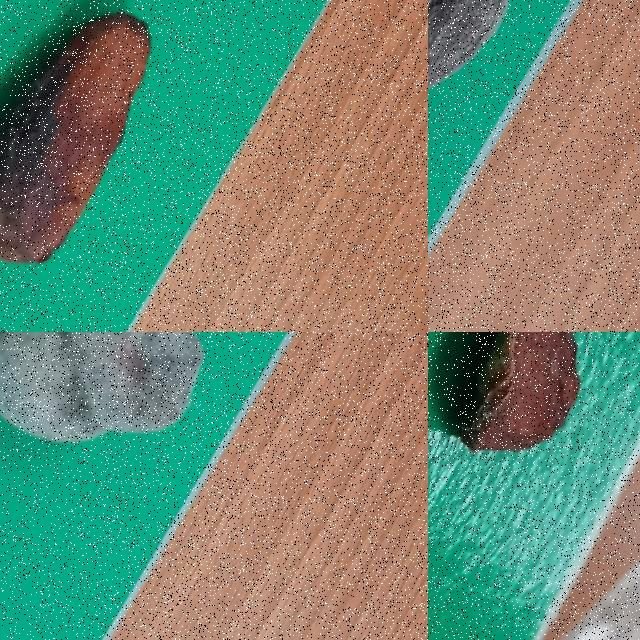Agglomerated_cocoabeans: (0, 332, 301, 542), (428, 0, 624, 219)
Fine_cocoabeans: (0, 0, 275, 331)
Flat_cocoabeans: (428, 332, 639, 602)
